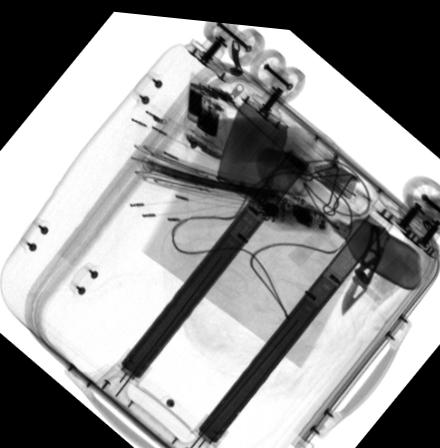Knife: (339, 215, 389, 309)
